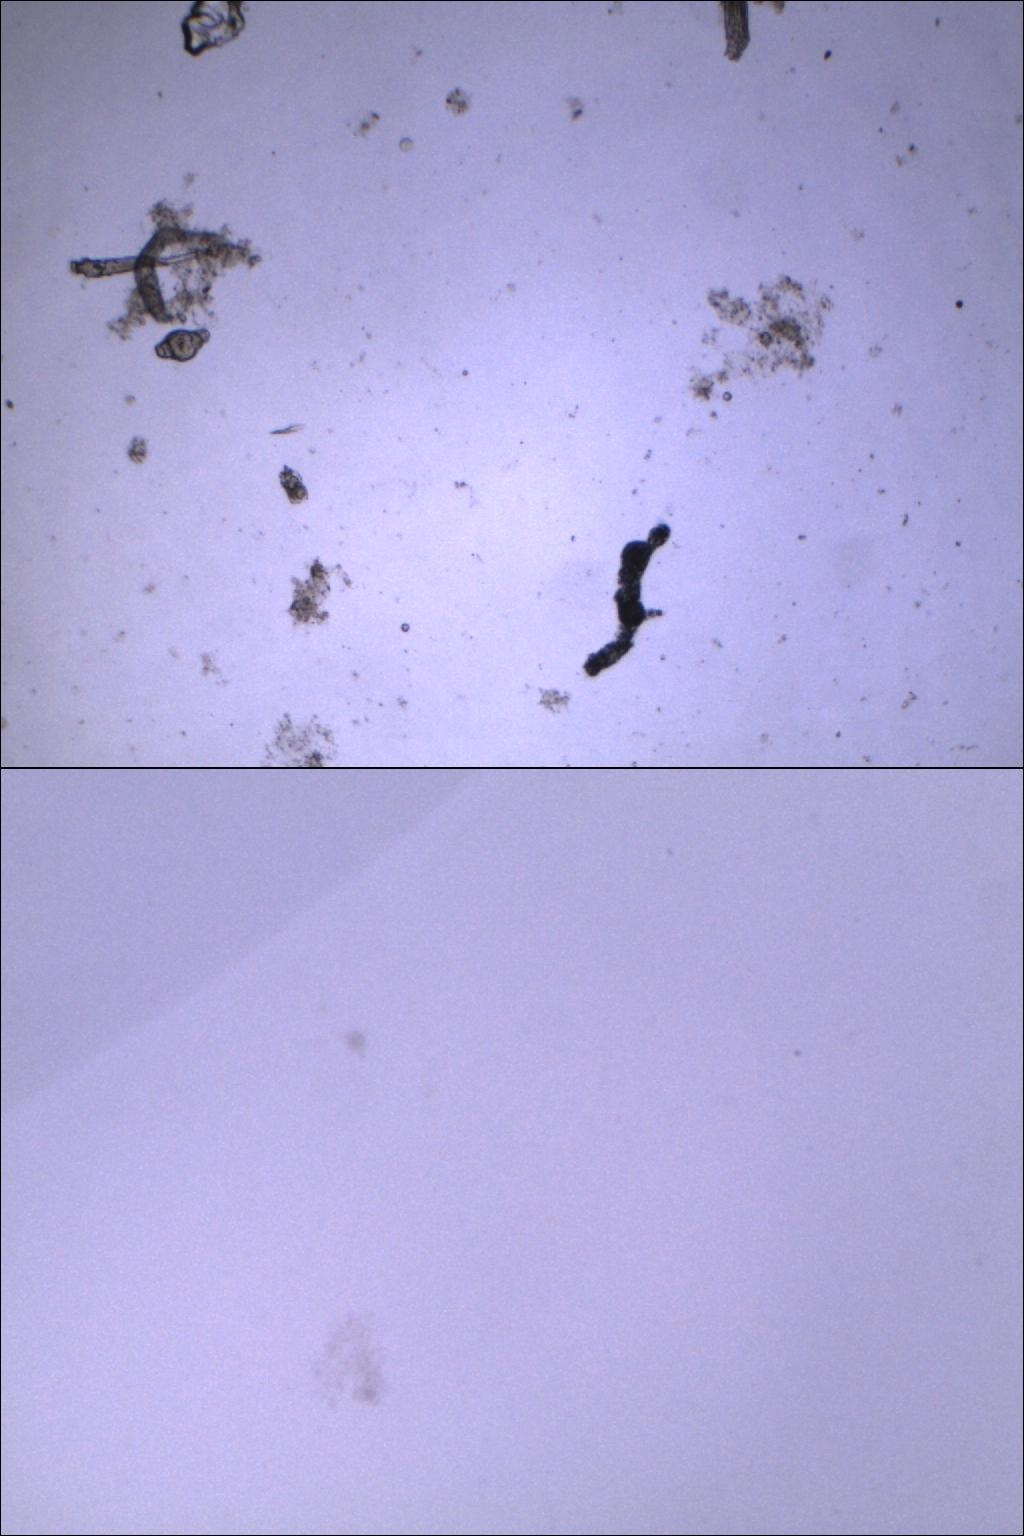N.Fowleri Amoeba: (289, 1290, 402, 1433)
Proteus Amoeba: (576, 513, 707, 693)
